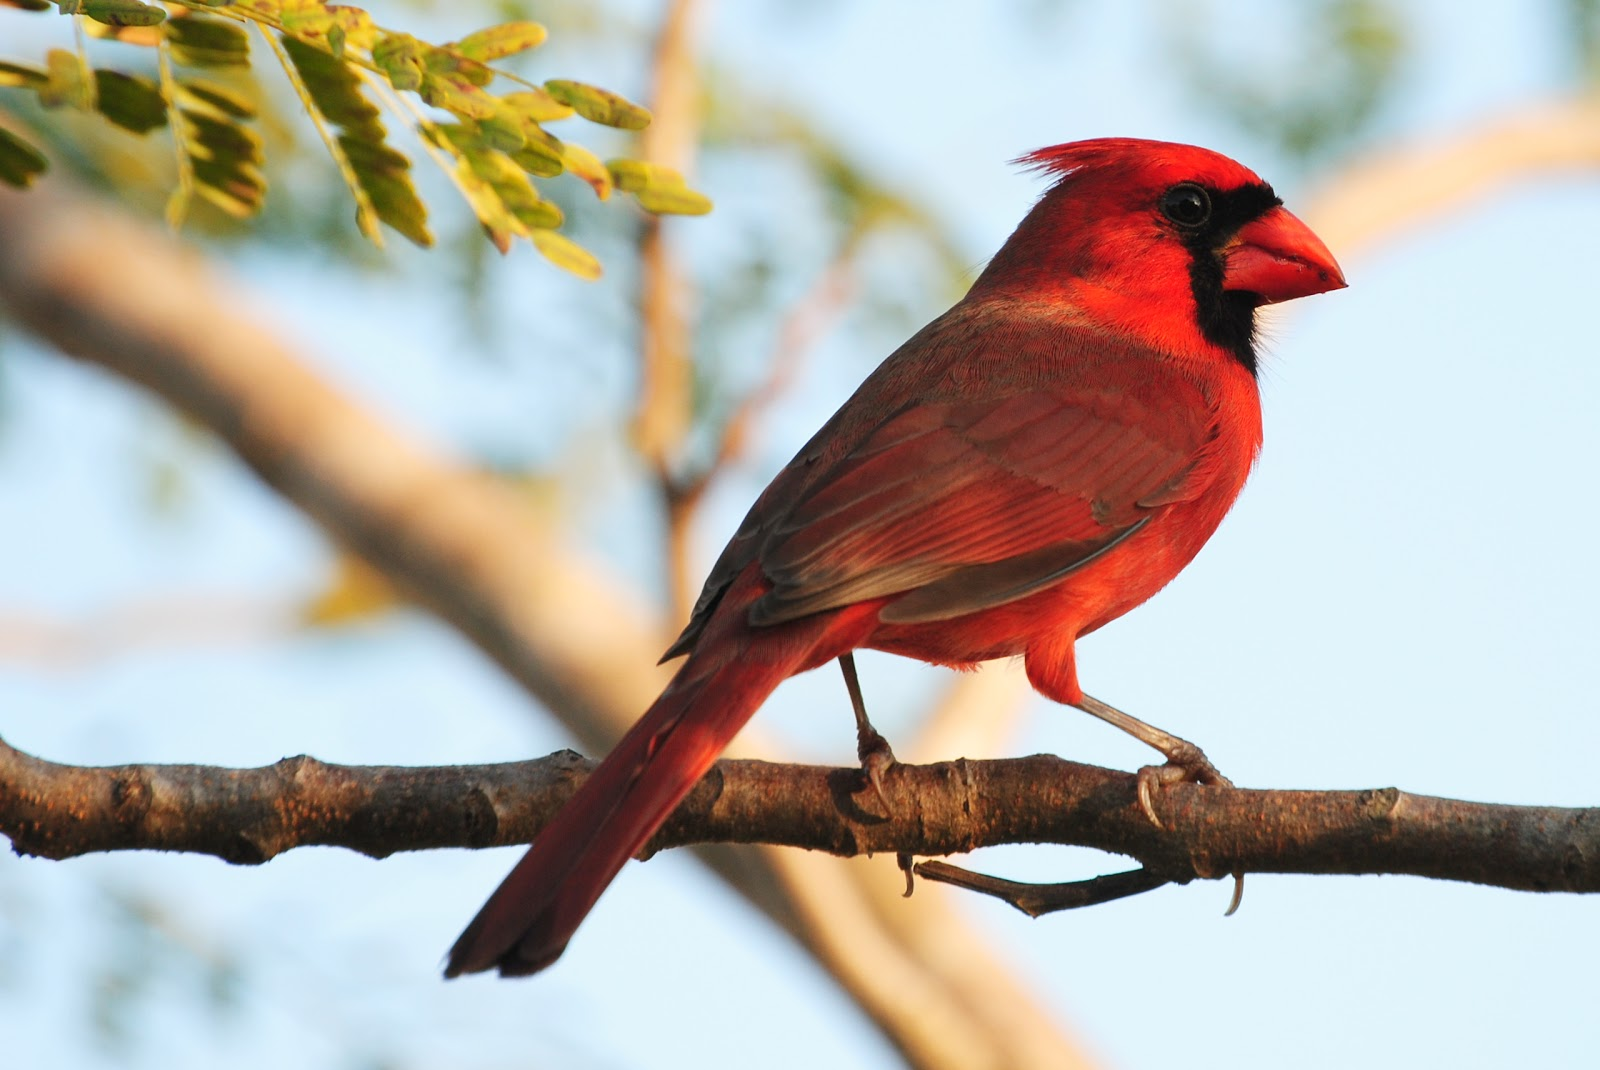bird: (442, 139, 1353, 980)
